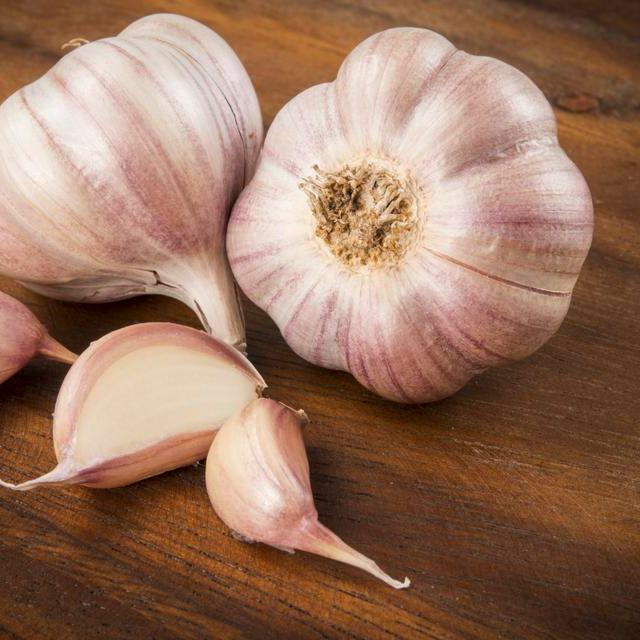garlic: (226, 19, 599, 410), (0, 7, 272, 337), (0, 324, 254, 509), (194, 389, 402, 584)
